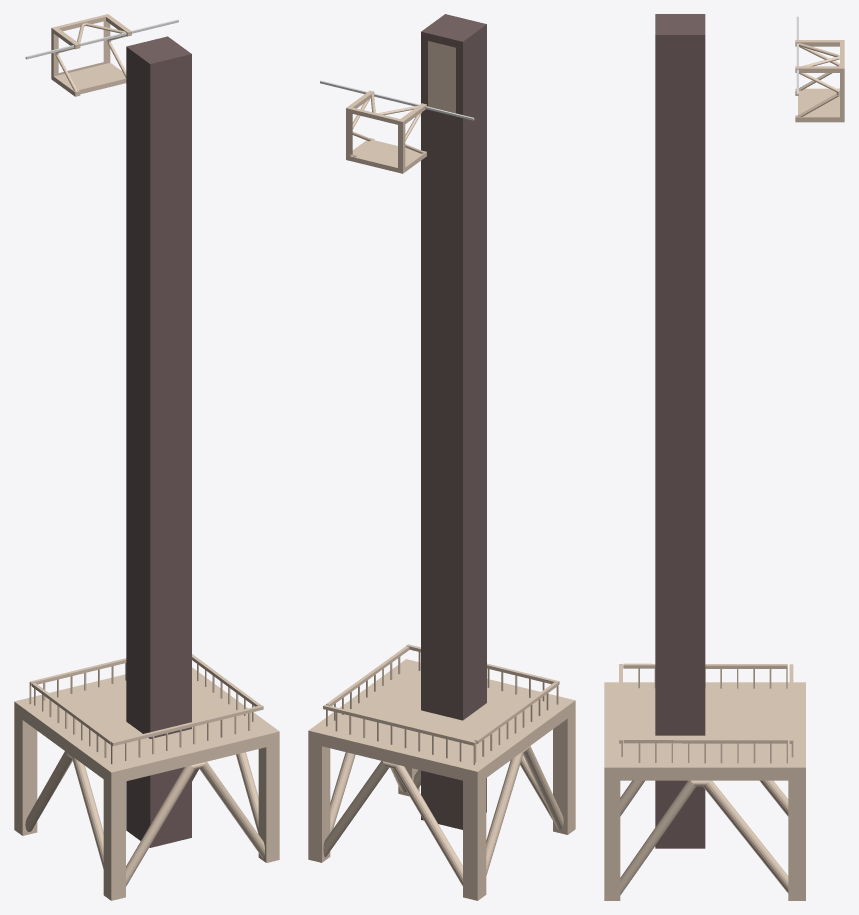
The model's file is NewBuilding.glb.
3 views of the same model, side by side, from view 1: azimuth 30°, elevation 25°; view 2: azimuth 150°, elevation 25°; view 3: azimuth 270°, elevation 25° (orthographic). The views are drawn at different scales.
Visible parts, largest first — view 1: Hiss, Plattform, Gång; view 2: Hiss, Plattform, Gång, Dörr; view 3: Hiss, Plattform, Gång.
Part boxes in pixels (x1,y1,x2,y2): Hiss: (126,36,191,847); Plattform: (14,654,279,900); Gång: (51,14,131,96); Hiss: (421,14,486,829); Plattform: (308,644,575,900); Gång: (346,90,426,173); Dörr: (428,41,455,113); Hiss: (655,14,705,848); Plattform: (604,663,805,900); Gång: (795,40,844,122).
Bounding box in the file's own units: 17.88 × 81.53 × 21.31.
